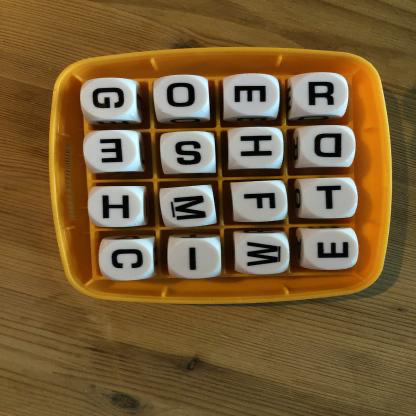c: (97, 240, 155, 281)
d: (299, 125, 356, 167)
e: (226, 74, 281, 117), (84, 130, 140, 172), (302, 230, 359, 271)
f: (232, 181, 288, 223)
g: (82, 80, 136, 118)
h: (89, 187, 145, 227), (229, 129, 284, 169)
i: (170, 237, 223, 279)
m: (162, 188, 216, 227)
o: (155, 76, 209, 117)
r: (294, 73, 349, 114)
s: (162, 132, 216, 173)
t: (302, 177, 359, 220)
w: (235, 234, 290, 275)
